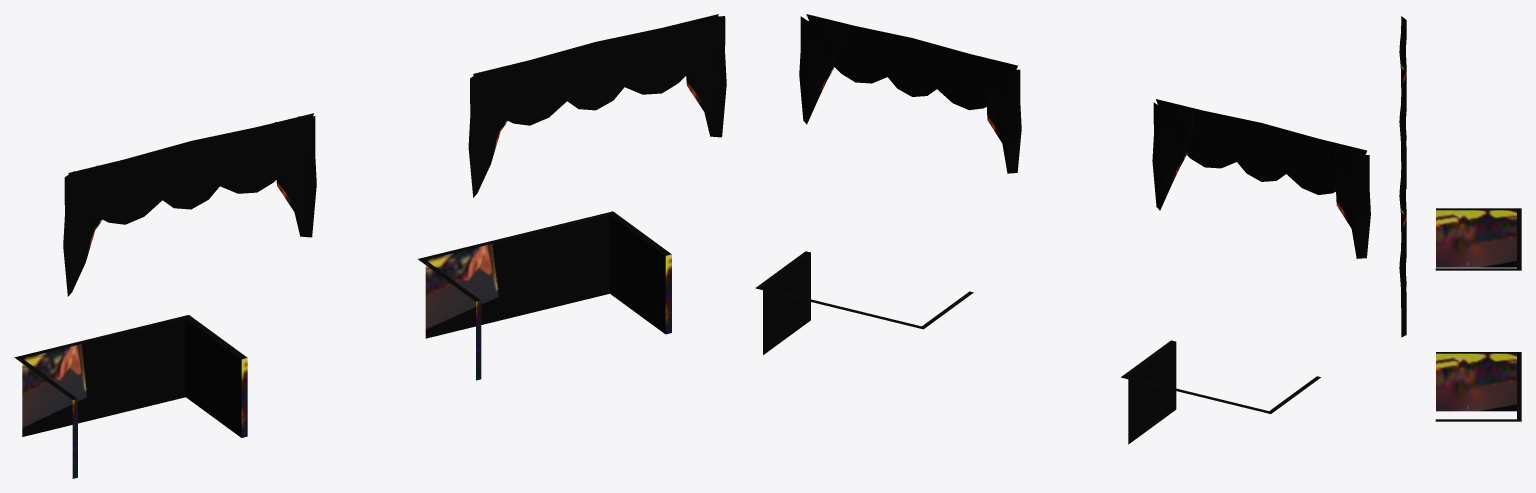
File: Kitchen_GEO_GRP1_Window_Deco.obj
3 views of the same model, side by side, from view 1: azimuth 30°, elevation 25°; view 2: azimuth 150°, elevation 25°; view 3: azimuth 270°, elevation 25° (orthographic). The views are drawn at different scales.
Parts seen in each view (by area): view 1: Kitchen_GEO_GRP1_Window_Deco; view 2: Kitchen_GEO_GRP1_Window_Deco; view 3: Kitchen_GEO_GRP1_Window_Deco.
Boxes of the visible parts, x1,y1,x2,y2 form: Kitchen_GEO_GRP1_Window_Deco: [14, 14, 726, 478]; Kitchen_GEO_GRP1_Window_Deco: [755, 14, 1370, 444]; Kitchen_GEO_GRP1_Window_Deco: [1399, 16, 1521, 421].
Bounding box in the file's own units: 5.92 × 2.84 × 1.29.
Materials: 1 (1 with a texture image).
